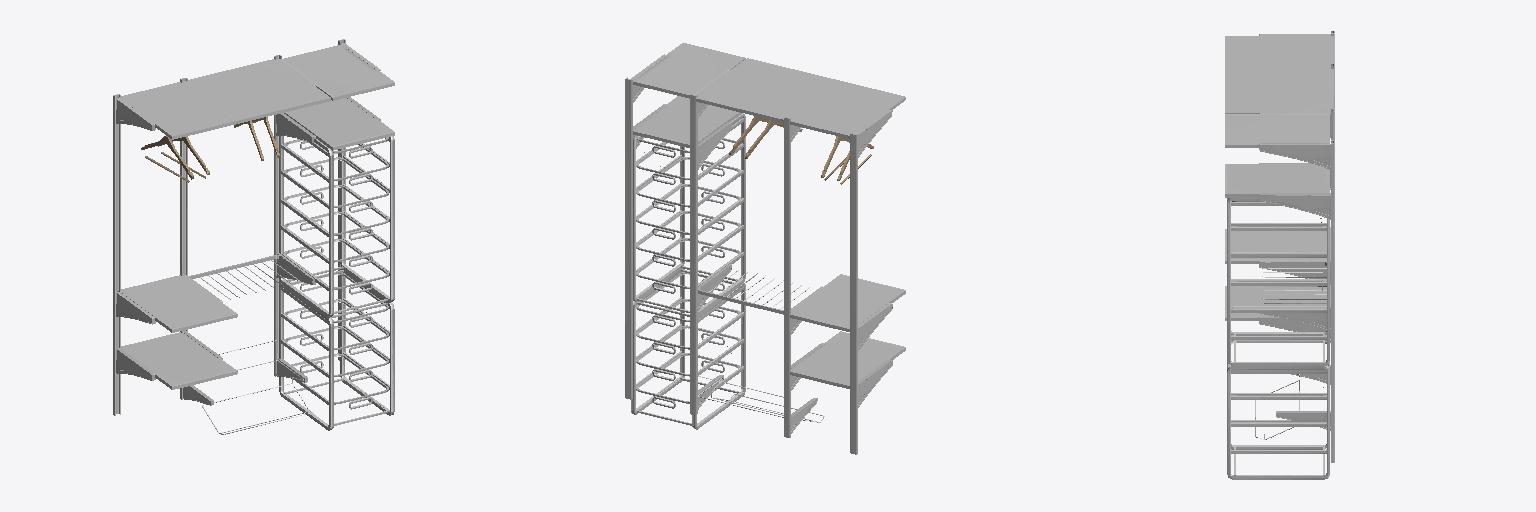
The picture shows the model from 3 angles: view 1: azimuth 30°, elevation 25°; view 2: azimuth 150°, elevation 25°; view 3: azimuth 270°, elevation 25°; orthographic projection.
Parts seen in each view (by area): view 1: solid_004, solid_001; view 2: solid_004, solid_001; view 3: solid_004.
Part boxes in pixels (x1,y1,x2,y2): solid_004: (113,39,394,434); solid_001: (141,117,279,182); solid_004: (625,43,905,454); solid_001: (729,116,873,184); solid_004: (1225,31,1334,479).
Size of the model in its own units: 1.05 by 1.47 by 0.4309.
Materials: 1 (1 with a texture image).